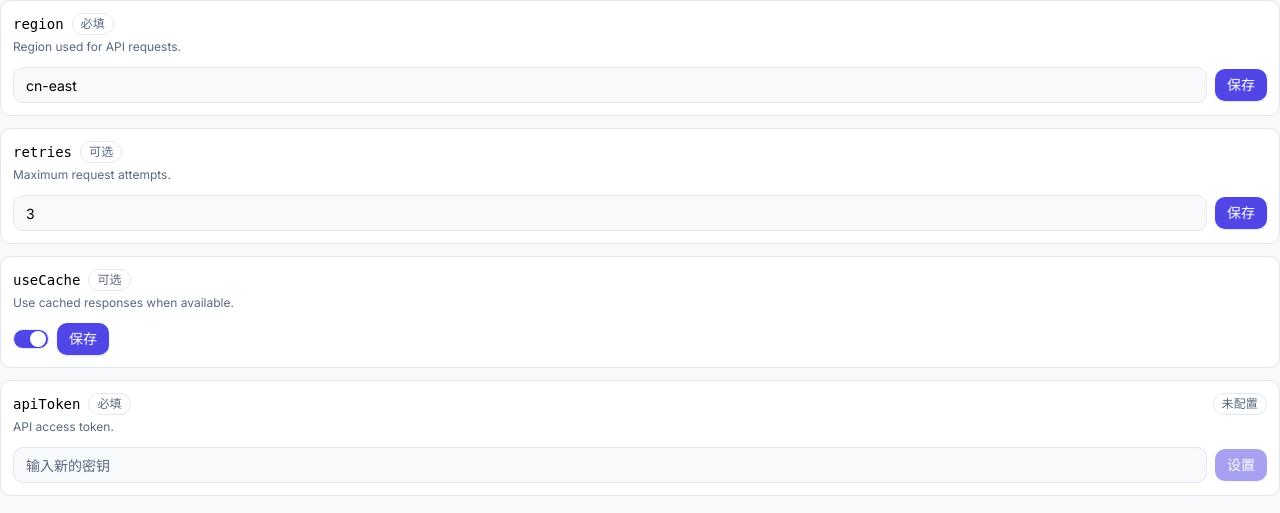
Scenario: SkillConfigPanel › sets, replaces, and clears secrets without retaining the submitted value
Check: the text "未配置" is shown, box [1212, 393, 1267, 415]
Check: the button "清除" is not shown
Type "new-secret-value" into the password field labelled "apiToken" at (610, 465), box [13, 447, 1207, 483]
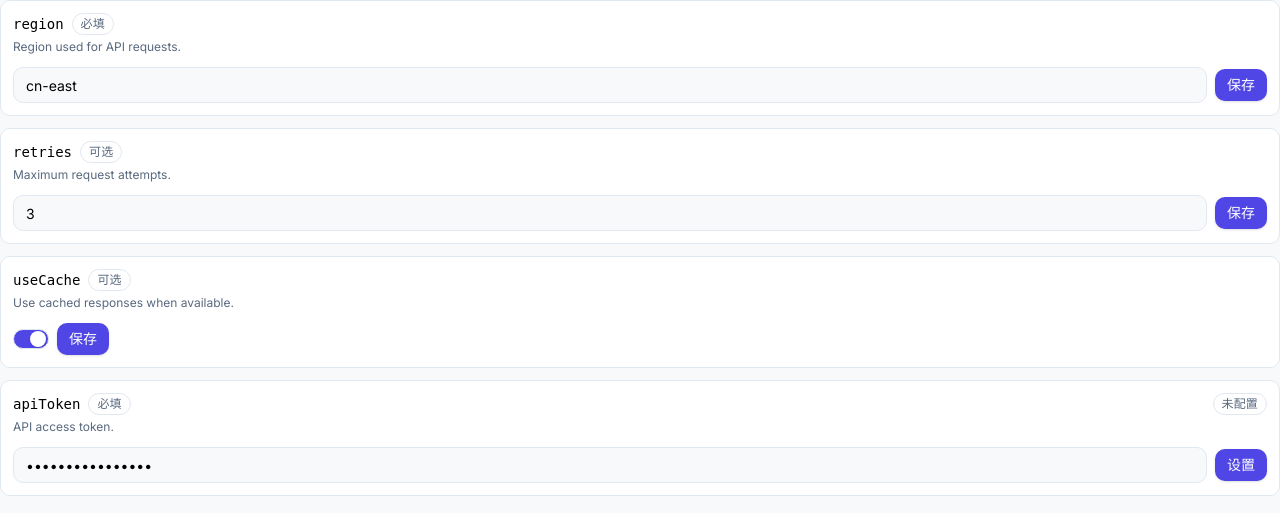
Click the button "设置" at (1241, 465), box [1215, 449, 1267, 481]
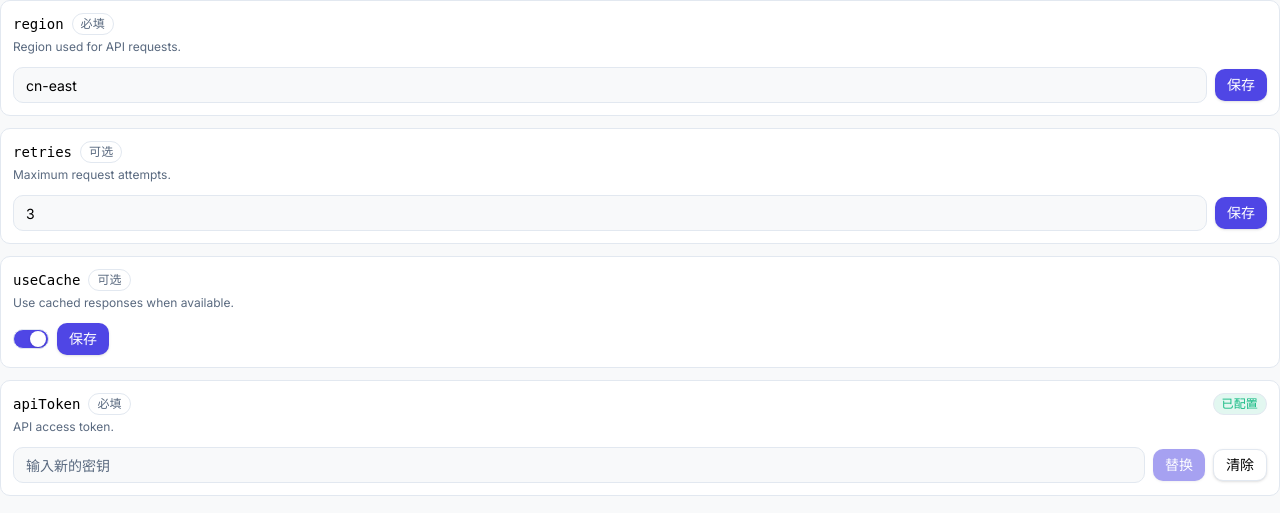
Check: the password field labelled "apiToken" is empty
Check: the text "已配置" is shown, box [1212, 393, 1267, 415]
Type "replacement-secret" into the password field labelled "apiToken" at (579, 465), box [13, 447, 1145, 483]
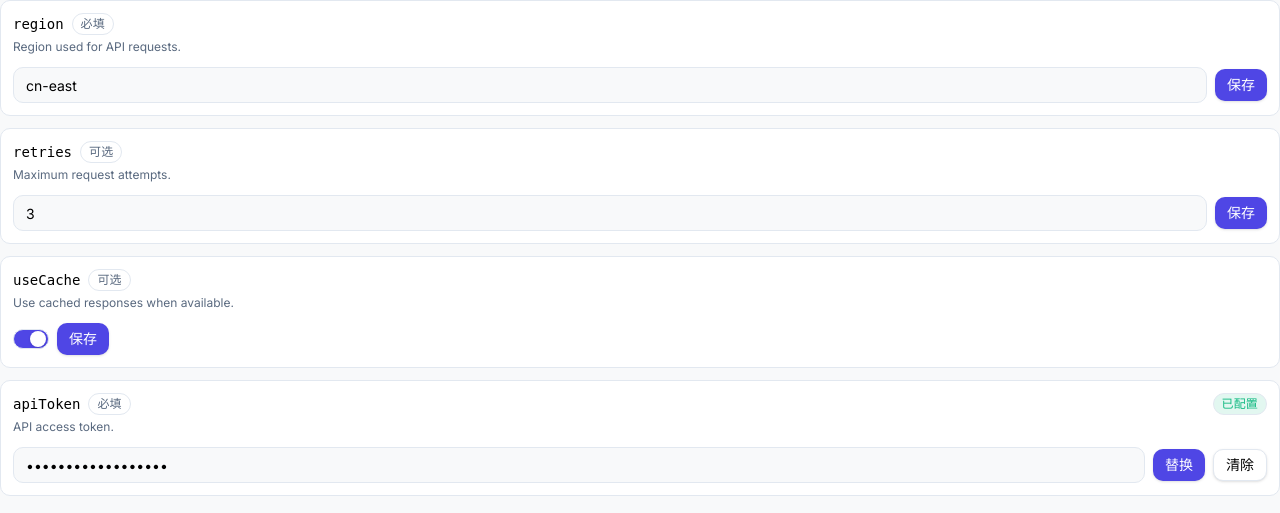
Click the button "替换" at (1179, 465), box [1153, 449, 1205, 481]
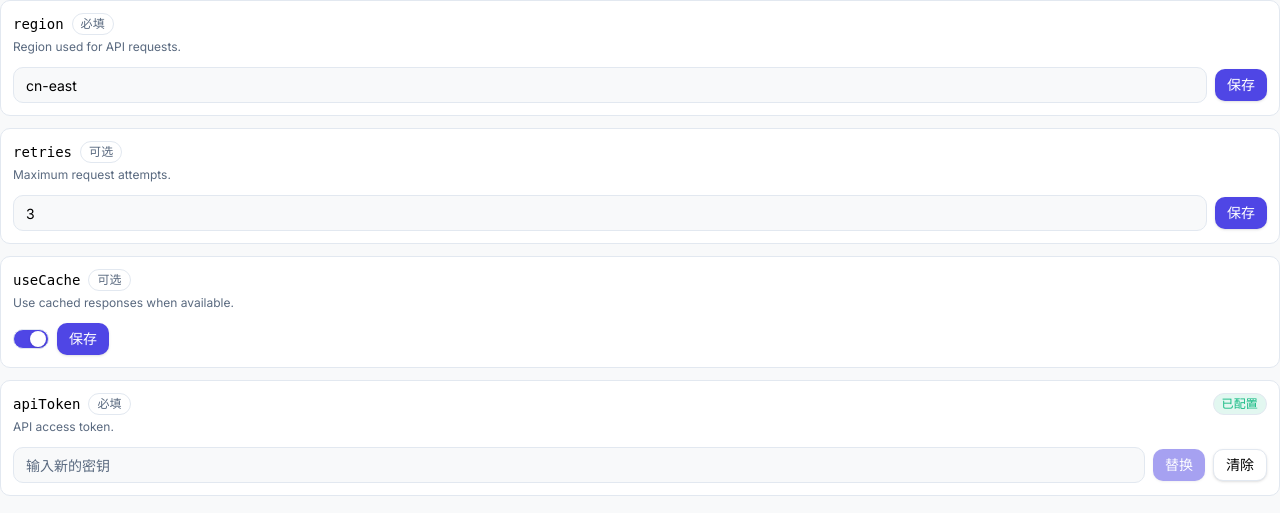
Check: the password field labelled "apiToken" is empty, box [13, 447, 1145, 483]
Click the button "清除" at (1240, 465), box [1213, 449, 1267, 481]
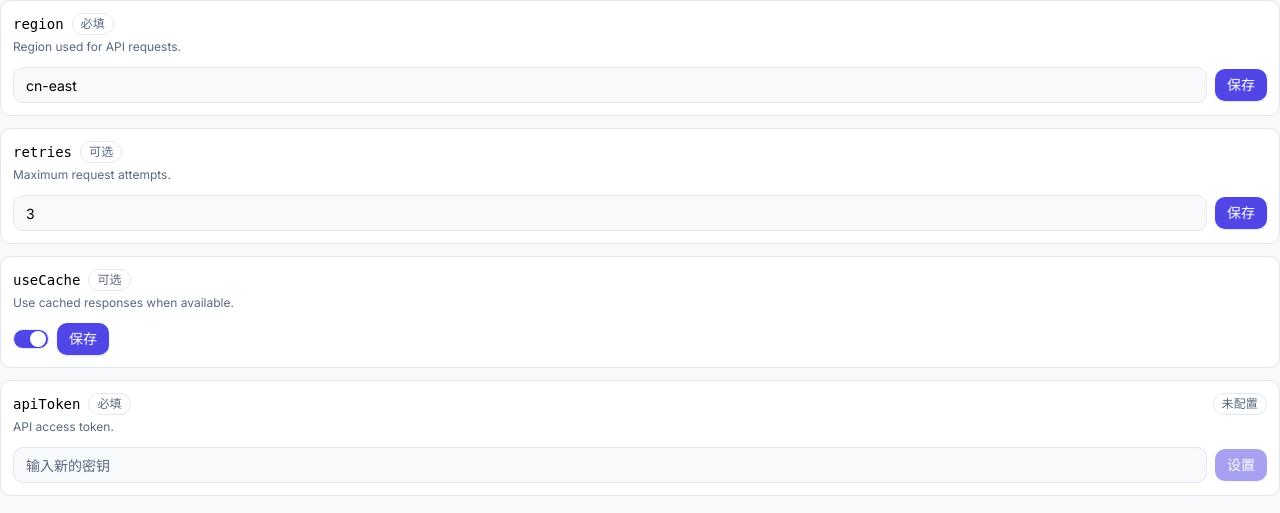
Check: the text "未配置" is shown, box [1212, 393, 1267, 415]
Check: the button "清除" is gone
